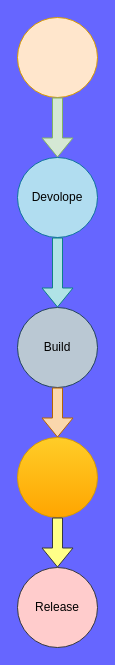
This 115x665 diagram has some shape labels left out. The shapes that lost their labels are listed below. From the top down, each one's box as (x1, y1, x2, y2) in pixels, then its label:
(16, 16, 98, 98): PLAN
(16, 436, 98, 518): Testing
